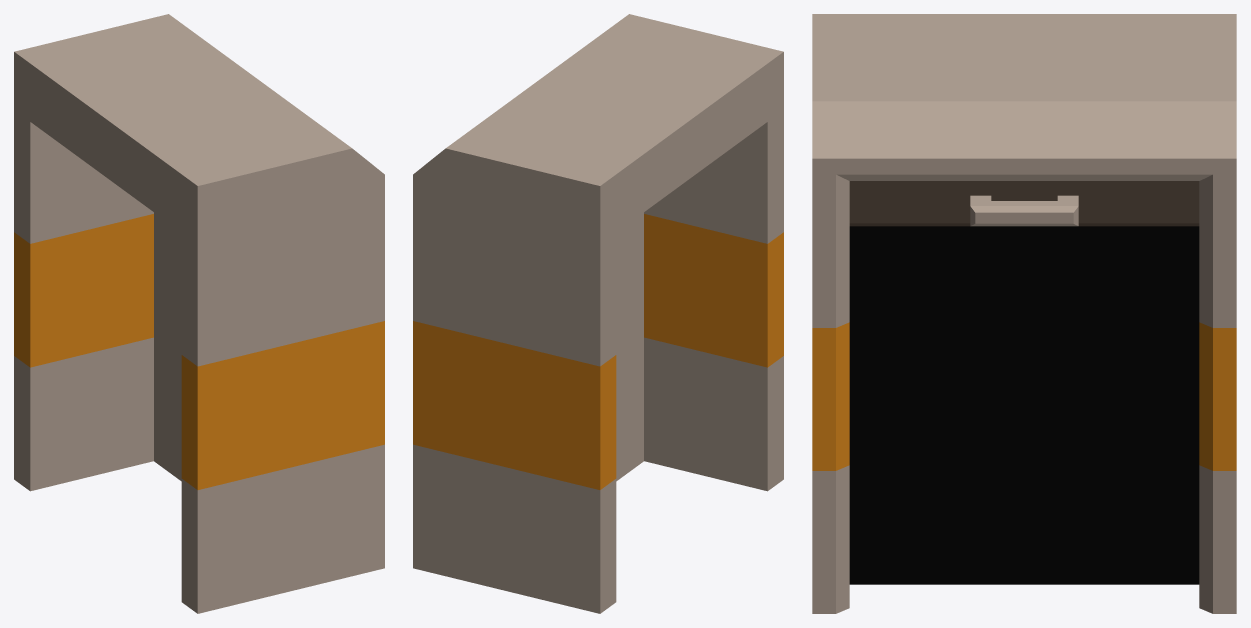
Rendered from BigDoor.fbx.
3 views of the same model, side by side, from view 1: azimuth 30°, elevation 25°; view 2: azimuth 150°, elevation 25°; view 3: azimuth 270°, elevation 25° (orthographic). The views are drawn at different scales.
Parts seen in each view (by area): view 1: ExitDoor; view 2: ExitDoor; view 3: ExitDoor.
Boxes of the visible parts, x1=… form: ExitDoor: x1=14, y1=14, x2=384, y2=613; ExitDoor: x1=413, y1=14, x2=783, y2=613; ExitDoor: x1=812, y1=14, x2=1236, y2=613.
Size of the model in its own units: 500 by 850 by 1093.
